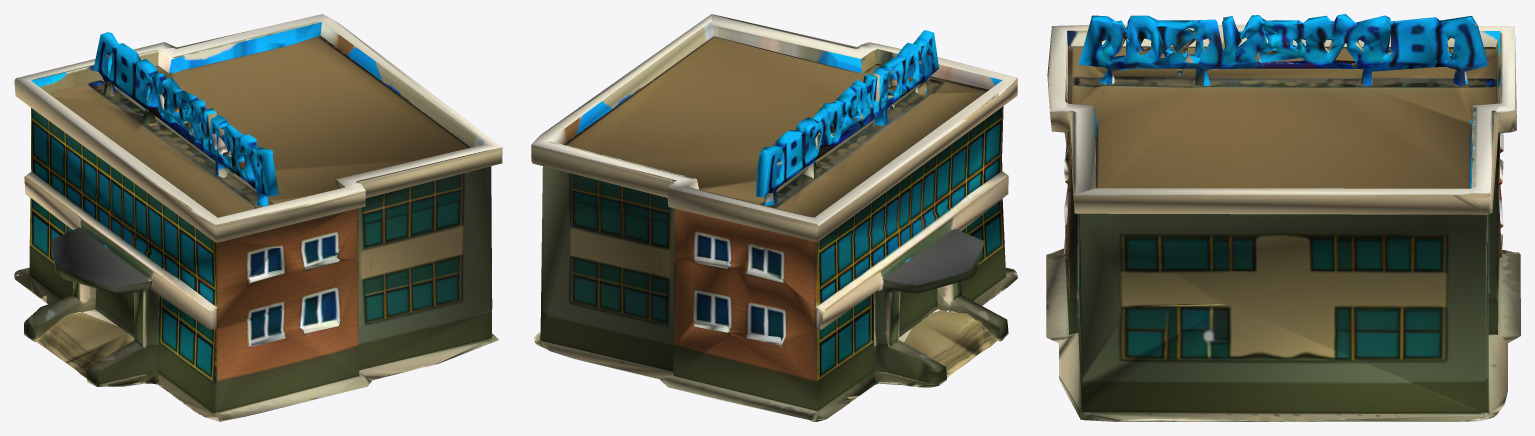
File: vokzal.fbx
3 renders of one model, left to right at view 1: azimuth 30°, elevation 25°; view 2: azimuth 150°, elevation 25°; view 3: azimuth 270°, elevation 25°, orthographic. The views are drawn at different scales.
Visible parts, largest first — view 1: tmp7mlgf0js.ply; view 2: tmp7mlgf0js.ply; view 3: tmp7mlgf0js.ply.
Part boxes in pixels (left/top/right/bottom): tmp7mlgf0js.ply: left=14, top=14, right=502, bottom=421; tmp7mlgf0js.ply: left=531, top=14, right=1017, bottom=421; tmp7mlgf0js.ply: left=1046, top=14, right=1520, bottom=421.
Bounding box in the file's own units: 199 × 128 × 198.
1 material, 1 textured.
